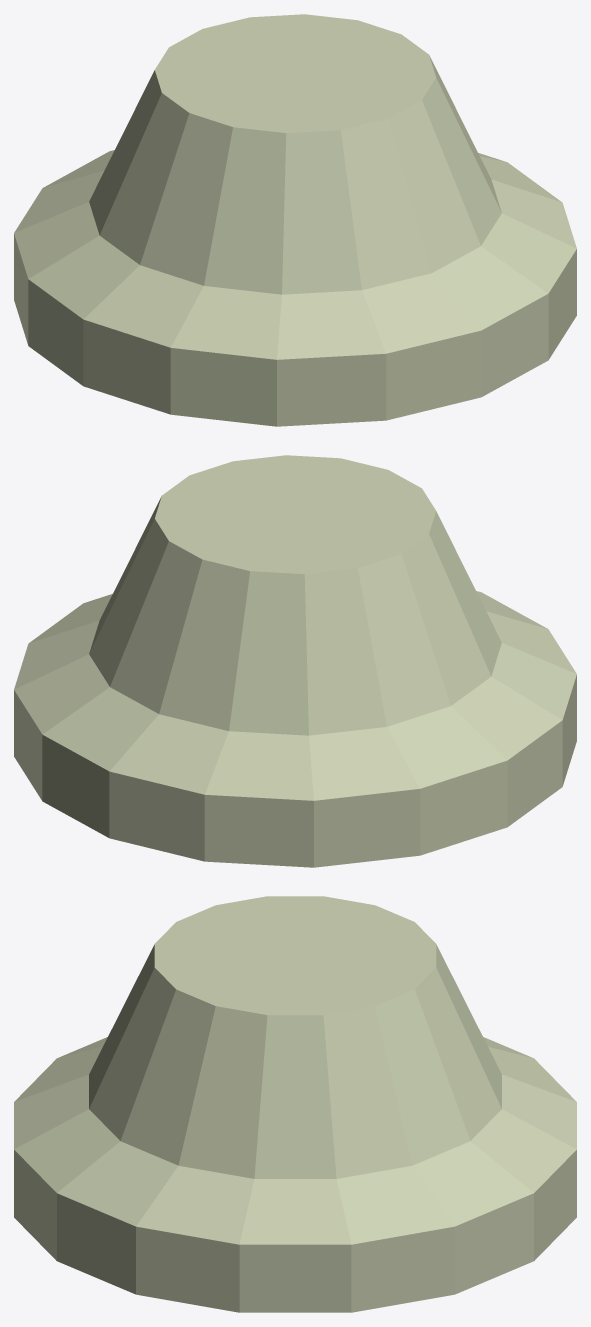
File: eridani_node_adapter_s1p5_s0p5_1_collider.obj
3 renders of one model, top to bottom at view 1: azimuth 30°, elevation 25°; view 2: azimuth 150°, elevation 25°; view 3: azimuth 270°, elevation 25°, orthographic.
Visible parts, largest first — view 1: collider2, collider1; view 2: collider2, collider1; view 3: collider2, collider1.
Part boxes in pixels (x1,y1,x2,y2): collider2: [89, 14, 501, 294]; collider1: [14, 150, 576, 426]; collider2: [89, 455, 501, 735]; collider1: [14, 591, 576, 867]; collider2: [89, 896, 501, 1178]; collider1: [14, 1037, 576, 1312].
Bounding box in the file's own units: 1.88 × 0.875 × 1.88.
